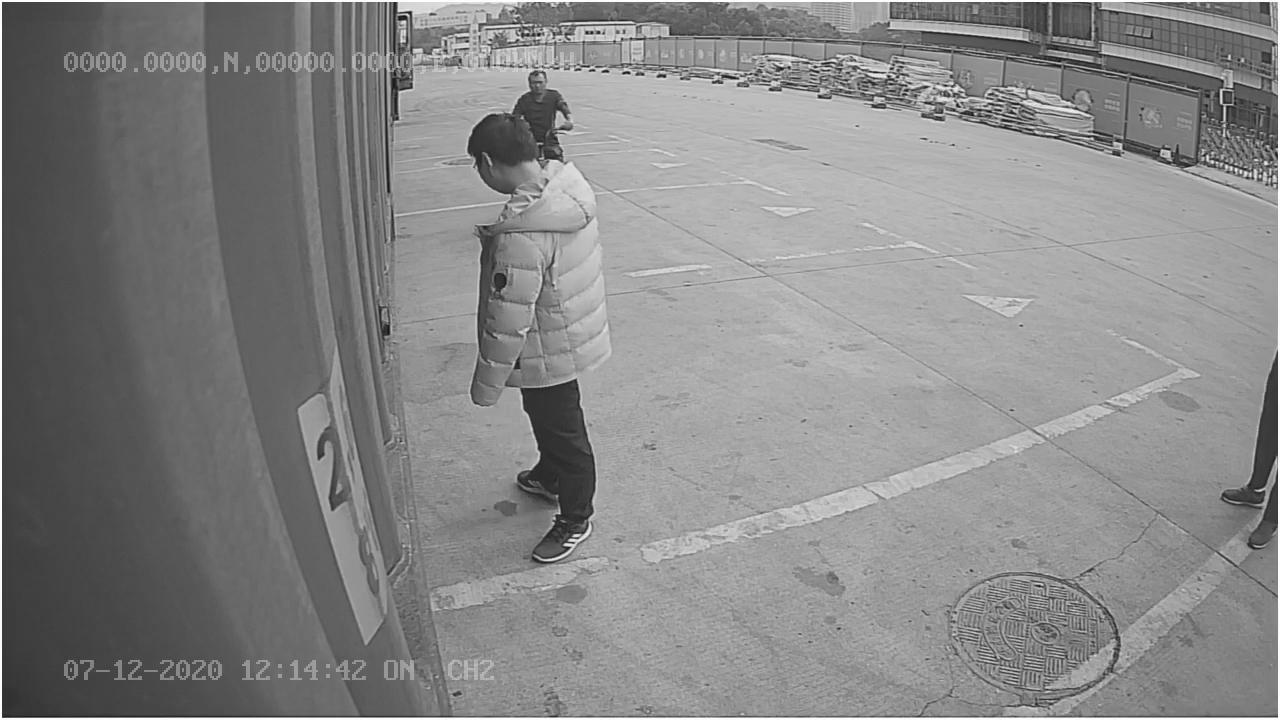person: (461, 111, 616, 565)
